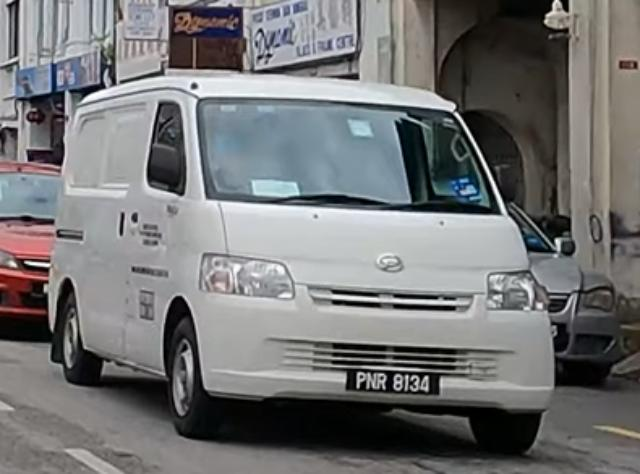License_Plate: (345, 368, 442, 398)
